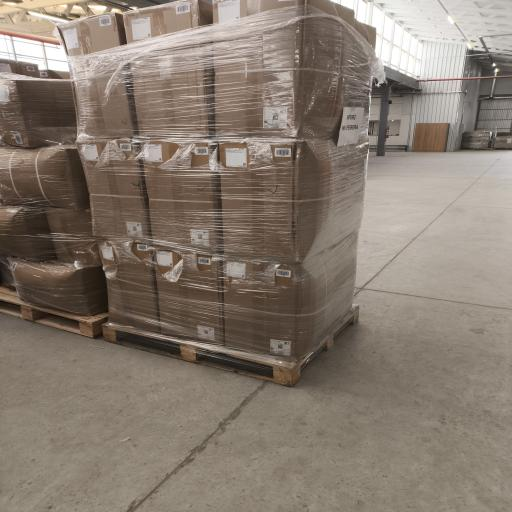pallet: (103, 306, 359, 386), (0, 286, 108, 337)
